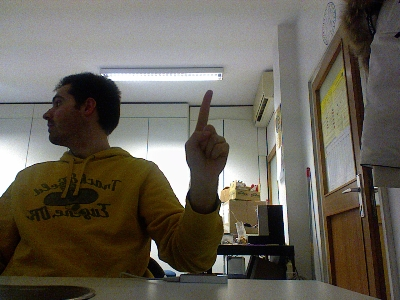食指: (184, 89, 228, 178)
